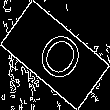O_SW: (25, 22, 85, 88)
